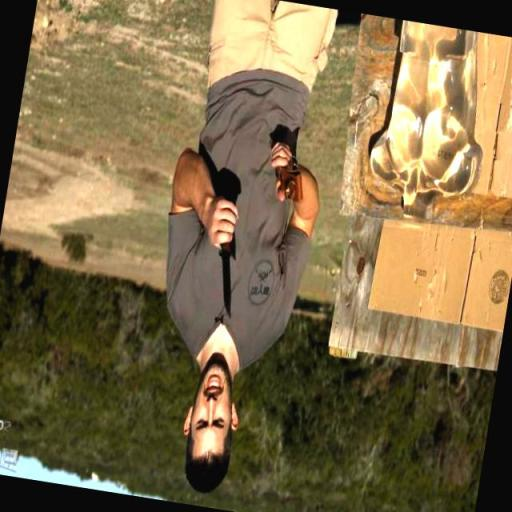knife: (194, 200, 252, 330)
